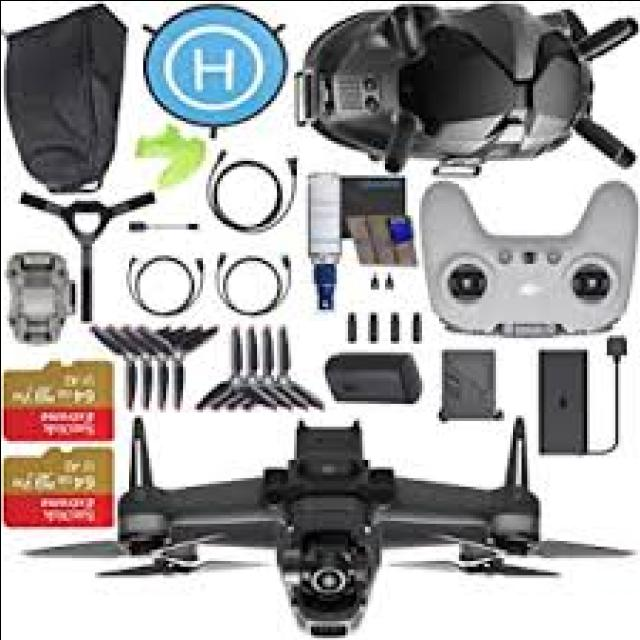drone: (10, 378, 635, 640)
